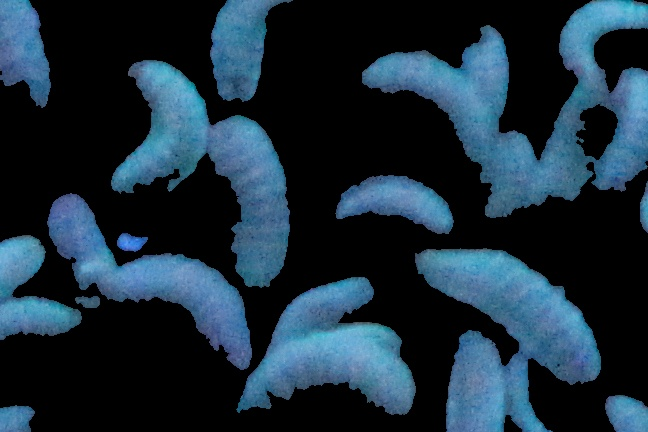larvae: (414, 243, 601, 386), (361, 50, 488, 192), (99, 259, 252, 371), (207, 114, 290, 288), (110, 60, 206, 193), (234, 349, 413, 414), (210, 1, 306, 104), (535, 85, 604, 224), (329, 175, 458, 234), (592, 65, 648, 192), (562, 1, 648, 81), (271, 275, 373, 336), (40, 190, 113, 275), (446, 332, 505, 432), (1, 1, 52, 109), (463, 16, 508, 124), (499, 351, 551, 432), (1, 302, 82, 344), (503, 132, 549, 197), (321, 316, 402, 351), (1, 236, 46, 298)
